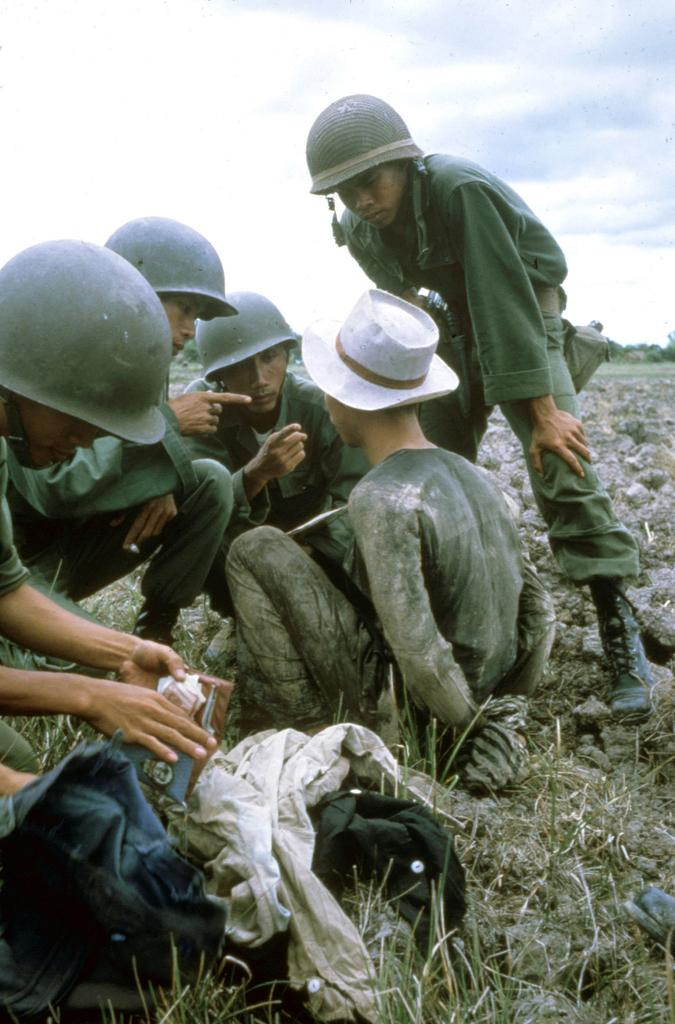Hat: (299, 285, 465, 415)
